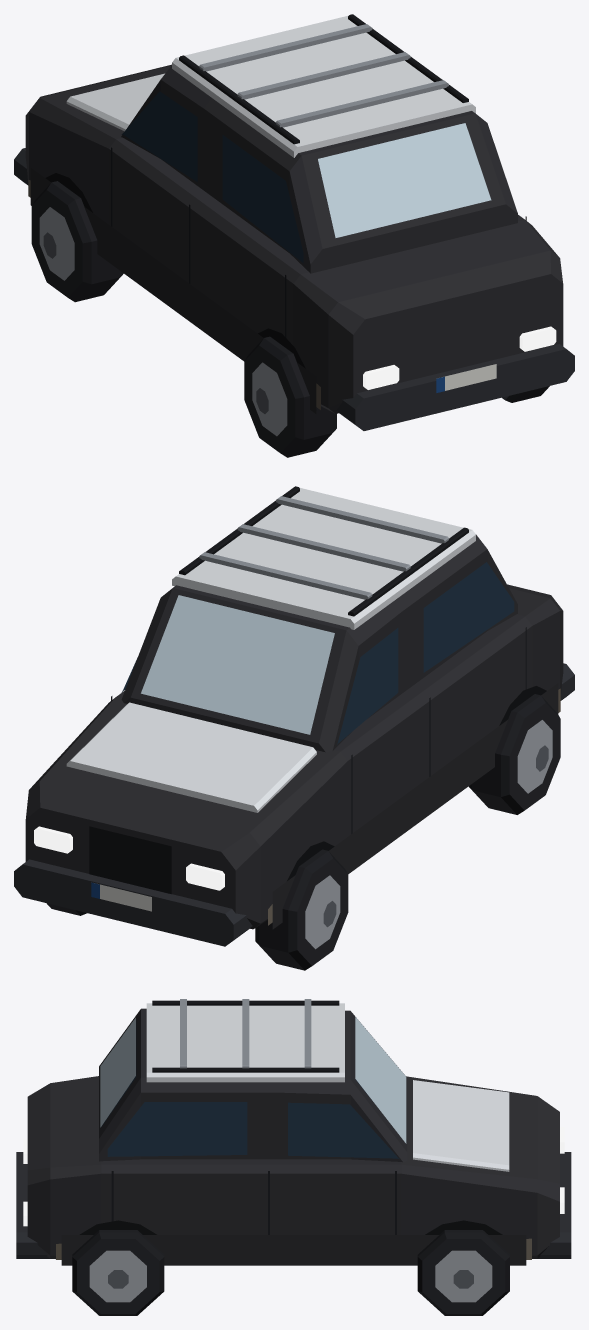
The model's file is suv_lo.glb.
The picture shows the model from 3 angles, top to bottom: view 1: azimuth 30°, elevation 25°; view 2: azimuth 150°, elevation 25°; view 3: azimuth 270°, elevation 25°; orthographic projection. The views are drawn at different scales.
Visible parts, largest first — view 1: body.004, wheel_RL.004, wheel_FL.004; view 2: body.004, wheel_FL.004, wheel_RL.004; view 3: body.004, wheel_RR.004, wheel_FR.004.
Part boxes in pixels (x1=…): body.004: x1=14, y1=14, x2=574, y2=430; wheel_RL.004: x1=244, y1=336, x2=336, y2=457; wheel_FL.004: x1=31, y1=181, x2=123, y2=302; body.004: x1=14, y1=486, x2=574, y2=946; wheel_FL.004: x1=255, y1=849, x2=348, y2=970; wheel_RL.004: x1=468, y1=694, x2=560, y2=814; body.004: x1=16, y1=999, x2=571, y2=1265; wheel_RR.004: x1=72, y1=1230, x2=164, y2=1315; wheel_FR.004: x1=417, y1=1230, x2=509, y2=1315.
Bounding box in the file's own units: 2.32 × 2.27 × 4.95.
